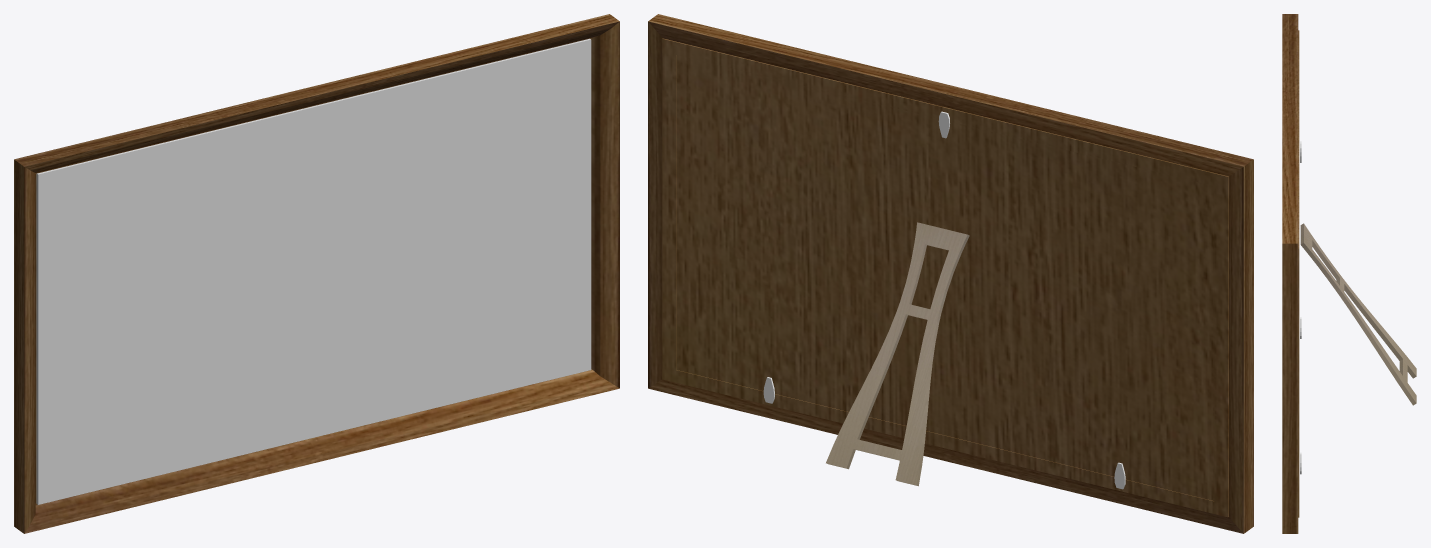
Rendered from PhotoFrame_H.fbx.
3 views of the same model, side by side, from view 1: azimuth 30°, elevation 25°; view 2: azimuth 150°, elevation 25°; view 3: azimuth 270°, elevation 25° (orthographic). The views are drawn at different scales.
Parts seen in each view (by area): view 1: Frame_H; view 2: Frame_H; view 3: Frame_H.
Part boxes in pixels (x1=…): Frame_H: x1=14, y1=14, x2=619, y2=533; Frame_H: x1=648, y1=14, x2=1253, y2=533; Frame_H: x1=1282, y1=14, x2=1416, y2=533.
Bounding box in the file's own units: 0.3396 × 0.2 × 0.0838.
